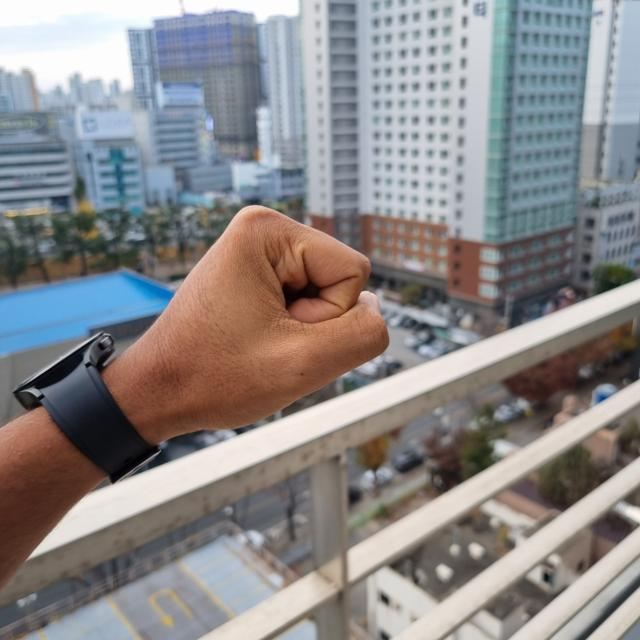Rock: (103, 206, 390, 440)
